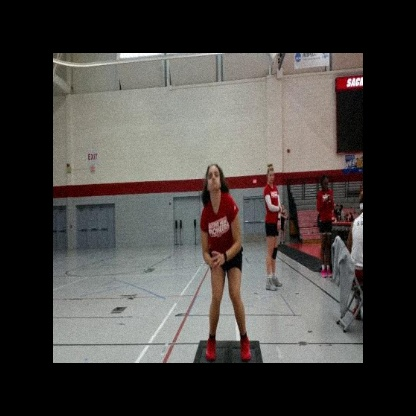lateral_flexion_right: (199, 160, 253, 363)
stance_width_broad: (199, 190, 252, 363)
